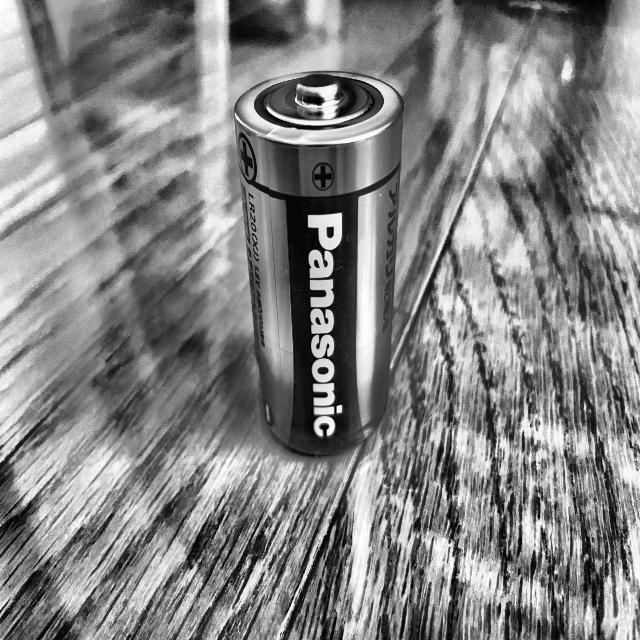drycell: (234, 70, 404, 454)
